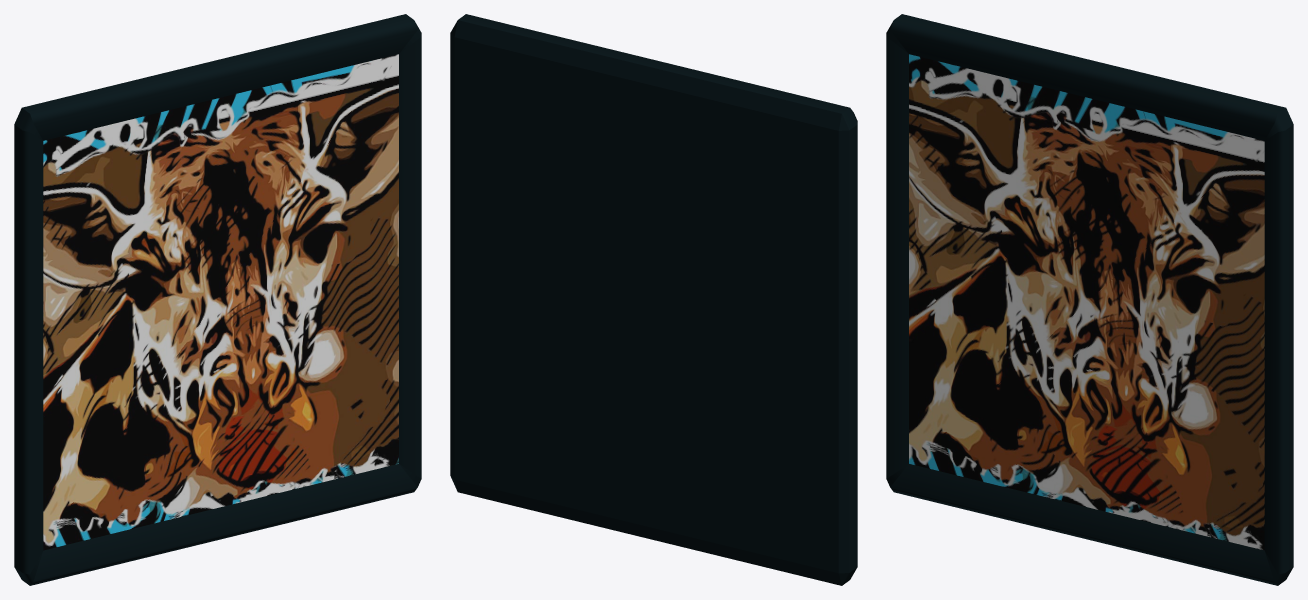
File: giraffeimage.glb
The picture shows the model from 3 angles, left to right: view 1: azimuth 30°, elevation 25°; view 2: azimuth 150°, elevation 25°; view 3: azimuth 330°, elevation 25°; orthographic projection.
Visible parts, largest first — view 1: Verdigris 48 x 24, Mesh_1; view 2: Mesh_1; view 3: Verdigris 48 x 24, Mesh_1.
Boxes of the visible parts, left/top/right/bottom form: Verdigris 48 x 24: left=43, top=54, right=398, bottom=550; Mesh_1: left=14, top=14, right=421, bottom=585; Mesh_1: left=450, top=14, right=857, bottom=585; Verdigris 48 x 24: left=909, top=54, right=1264, bottom=550; Mesh_1: left=886, top=14, right=1293, bottom=585.
Bounding box in the file's own units: 0.46 × 0.52 × 0.03.
2 materials, 1 textured.
